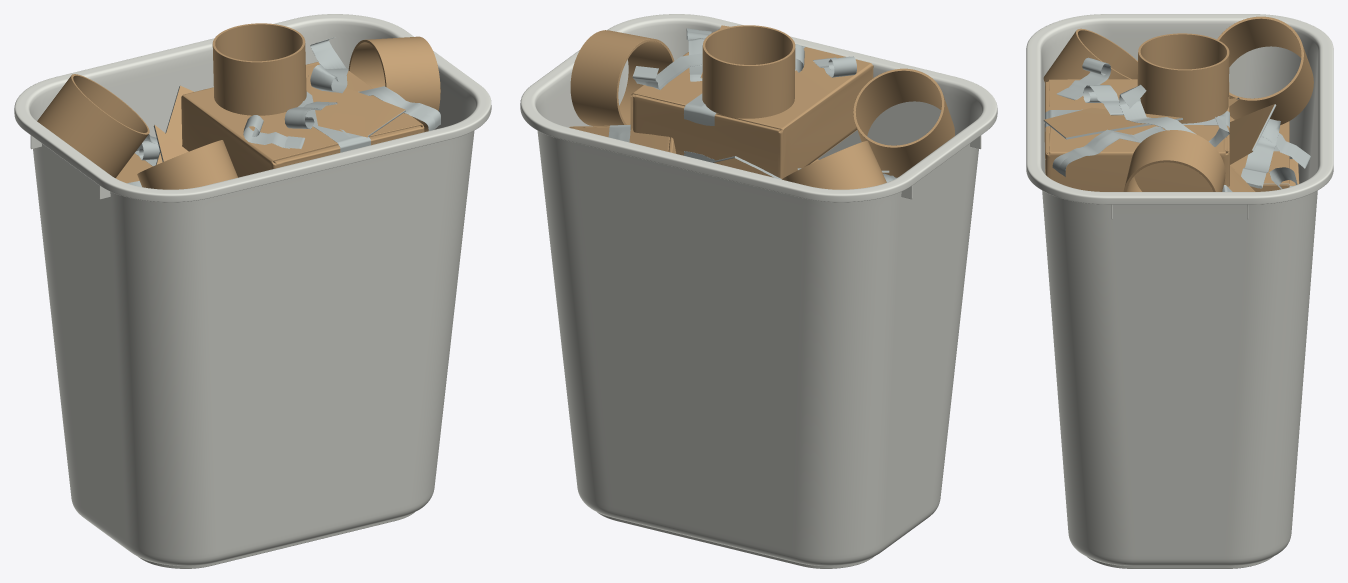
Rendered from trash_a03.glb.
The picture shows the model from 3 angles, left to right: view 1: azimuth 30°, elevation 25°; view 2: azimuth 150°, elevation 25°; view 3: azimuth 270°, elevation 25°; orthographic projection.
Bounding box in the file's own units: 0.3751 × 0.4339 × 0.265.
